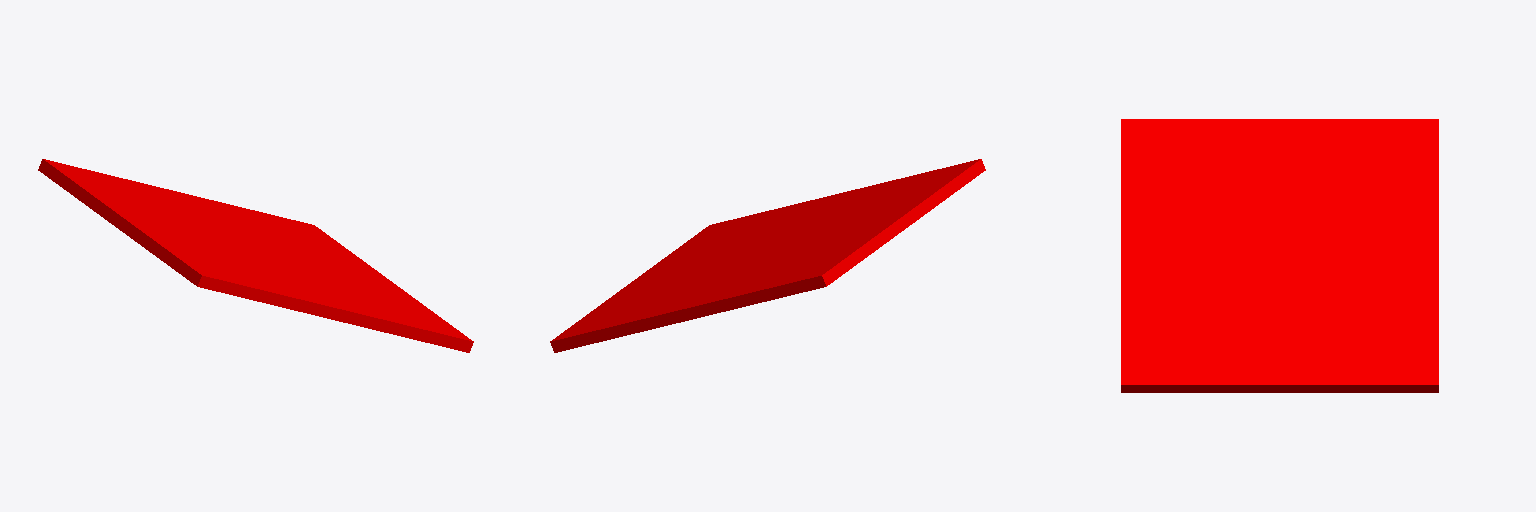
Rendered from simpleRoof.obj.
The picture shows the model from 3 angles: view 1: azimuth 30°, elevation 25°; view 2: azimuth 150°, elevation 25°; view 3: azimuth 270°, elevation 25°; orthographic projection.
Visible parts, largest first — view 1: Cube.007_Cube.043; view 2: Cube.007_Cube.043; view 3: Cube.007_Cube.043.
Part boxes in pixels (bbox=[...]): Cube.007_Cube.043: bbox=[38, 159, 473, 352]; Cube.007_Cube.043: bbox=[550, 159, 985, 352]; Cube.007_Cube.043: bbox=[1121, 119, 1438, 392].
Size of the model in its own units: 1 by 0.4956 by 1.